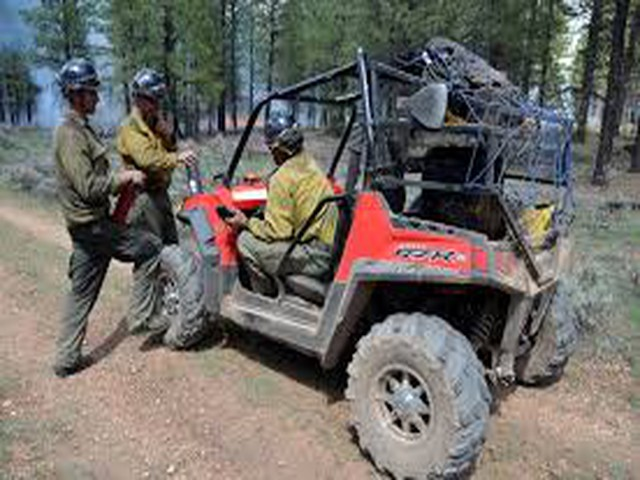Person: (50, 56, 160, 375), (233, 108, 328, 289)
Vehicle: (166, 47, 580, 475)
